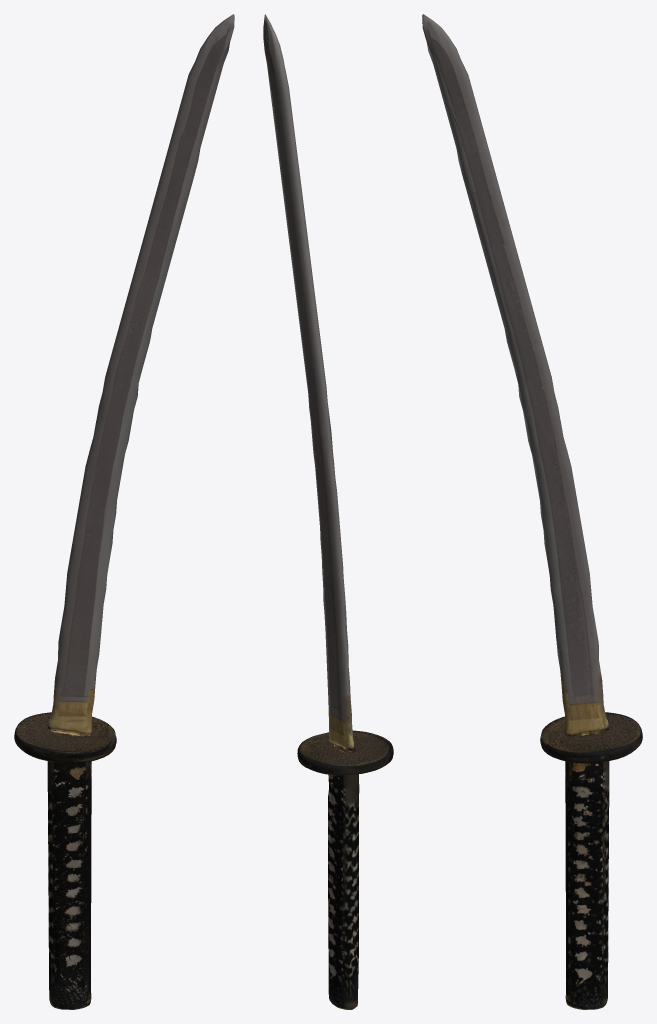
File: Katana.fbx
3 renders of one model, left to right at view 1: azimuth 90°, elevation 25°; view 2: azimuth 210°, elevation 25°; view 3: azimuth 270°, elevation 25°, orthographic. The views are drawn at different scales.
Parts seen in each view (by area): view 1: world; view 2: world; view 3: world.
Part boxes in pixels (x1,y1,x2,y2): world: (14,14,234,1009); world: (263,14,393,1009); world: (422,14,642,1009).
Size of the model in its own units: 10.86 by 117 by 23.67.
Materials: 1 (1 with a texture image).
